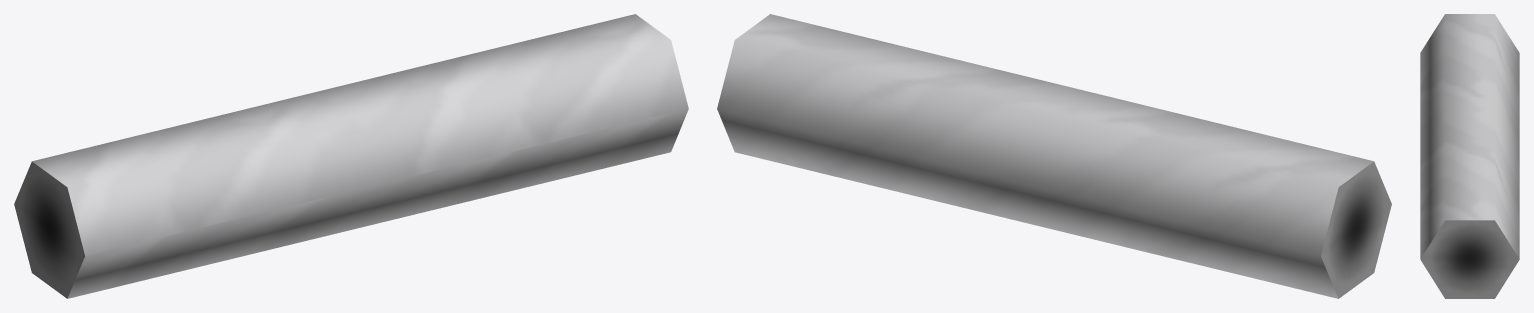
Rendered from TLOG_SmallMetalPipeCrafting.fbx.
3 renders of one model, left to right at view 1: azimuth 30°, elevation 25°; view 2: azimuth 150°, elevation 25°; view 3: azimuth 270°, elevation 25°, orthographic. The views are drawn at different scales.
Visible parts, largest first — view 1: MetalPipe; view 2: MetalPipe; view 3: MetalPipe.
Boxes of the visible parts, x1,y1,x2,y2 form: MetalPipe: (14, 14, 688, 298); MetalPipe: (717, 14, 1391, 298); MetalPipe: (1420, 14, 1519, 298).
Bounding box in the file's own units: 0.1183 × 0.021 × 0.0241.
